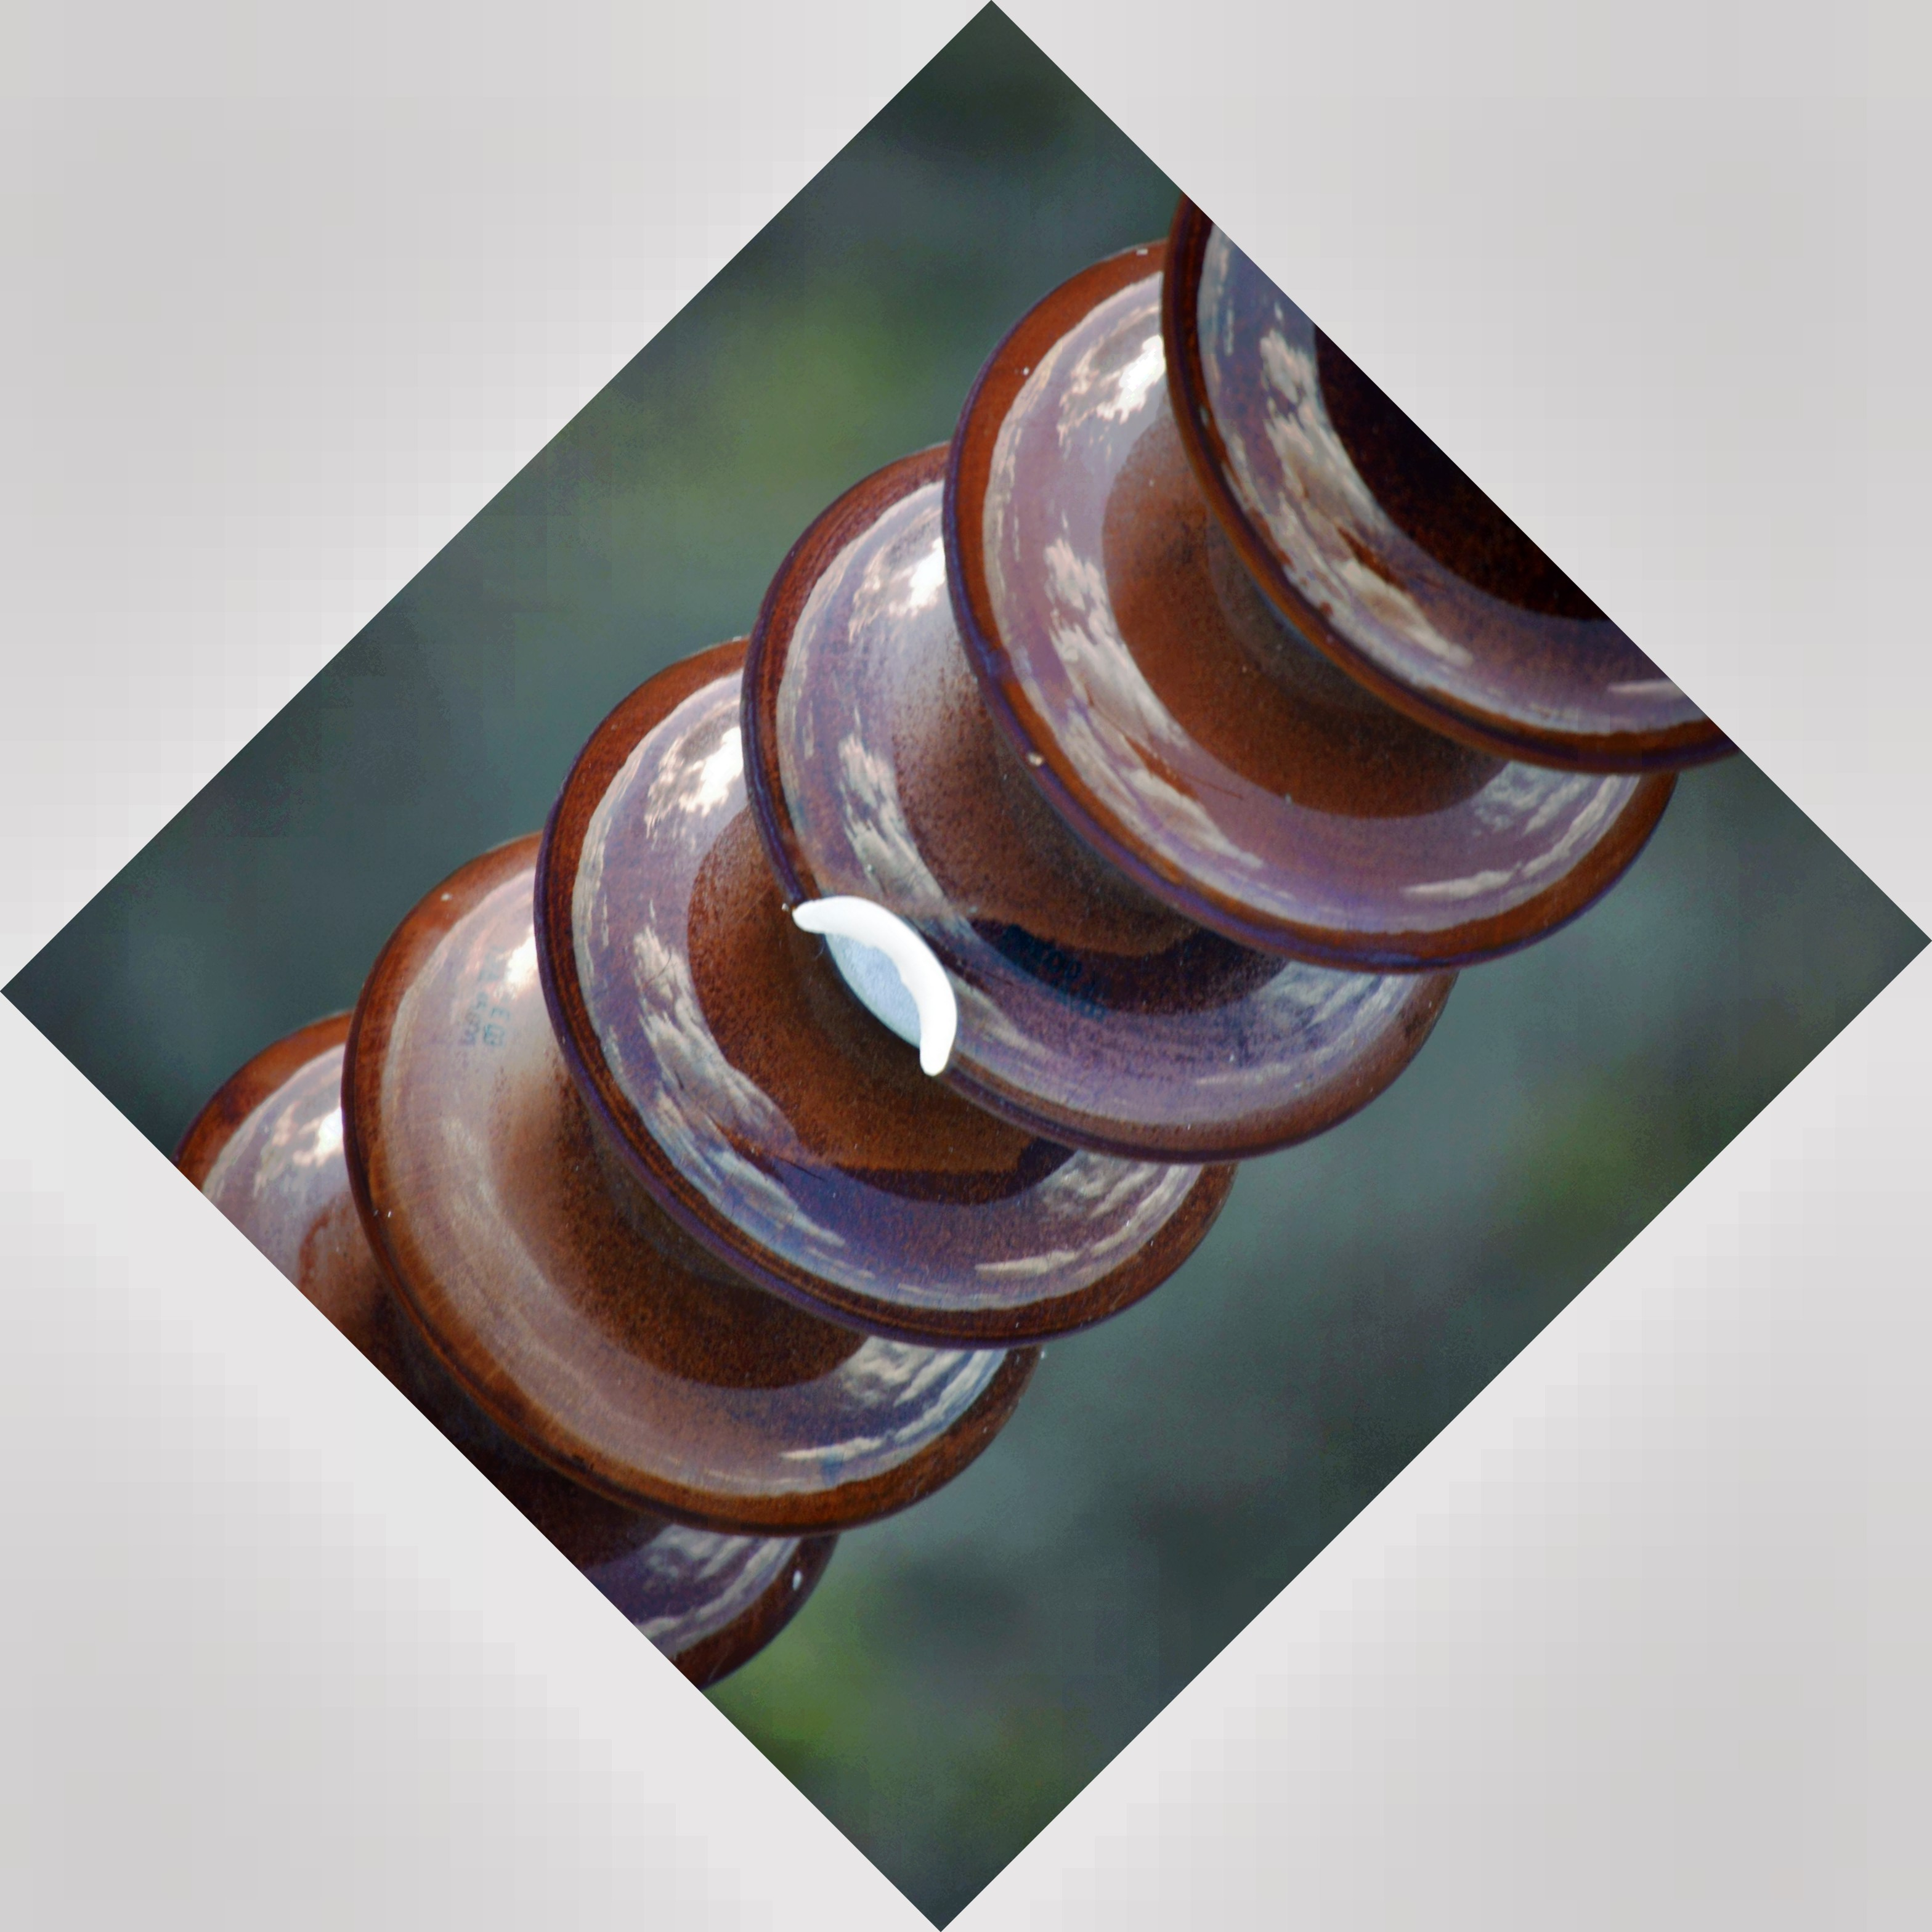insulator breakage: (745, 755, 1093, 1200)
